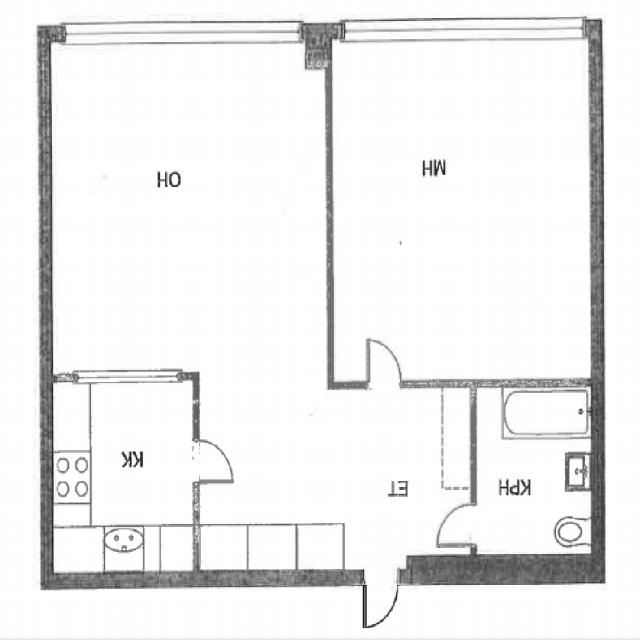door: (363, 571, 397, 631), (367, 340, 400, 389), (436, 505, 476, 545), (193, 443, 233, 483)
